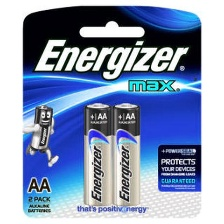battery: (80, 101, 113, 208), (110, 102, 142, 208)
book: (18, 4, 207, 220)
